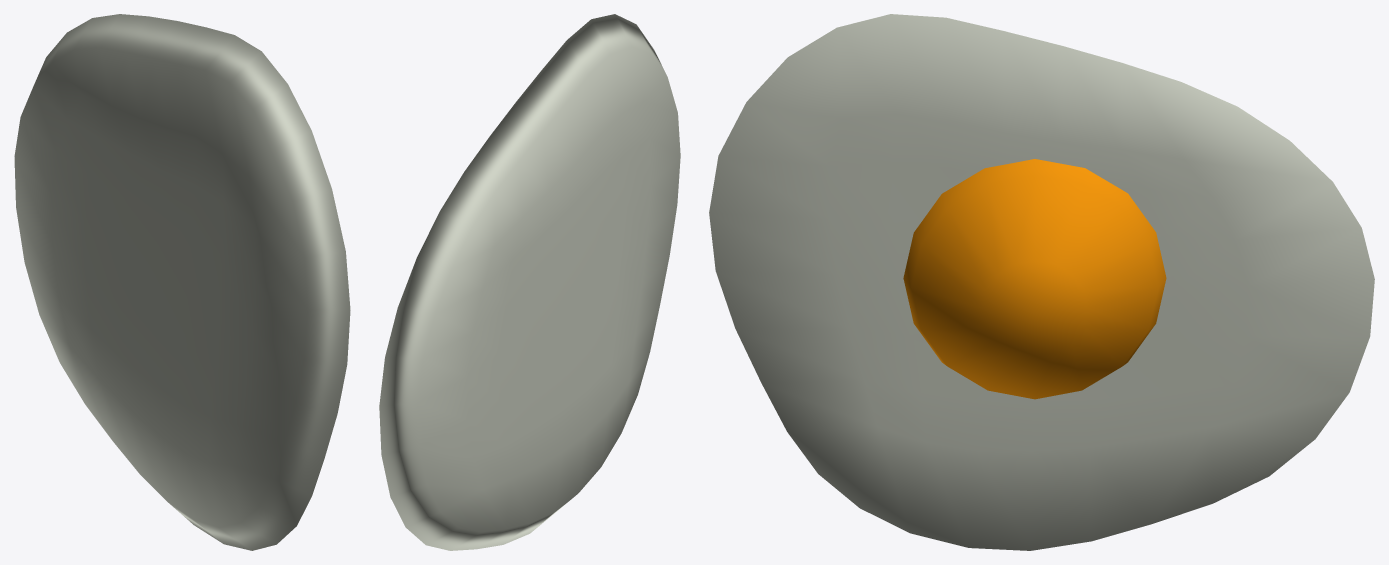
The model's file is Egg.fbx.
The picture shows the model from 3 angles, left to right: view 1: azimuth 30°, elevation 25°; view 2: azimuth 150°, elevation 25°; view 3: azimuth 270°, elevation 25°; orthographic projection. The views are drawn at different scales.
Visible parts, largest first — view 1: egg; view 2: egg; view 3: egg.
Boxes of the visible parts, x1=… form: egg: x1=14, y1=14, x2=350, y2=550; egg: x1=379, y1=14, x2=680, y2=550; egg: x1=709, y1=14, x2=1374, y2=550.
Size of the model in its own units: 47.83 by 216 by 243.
